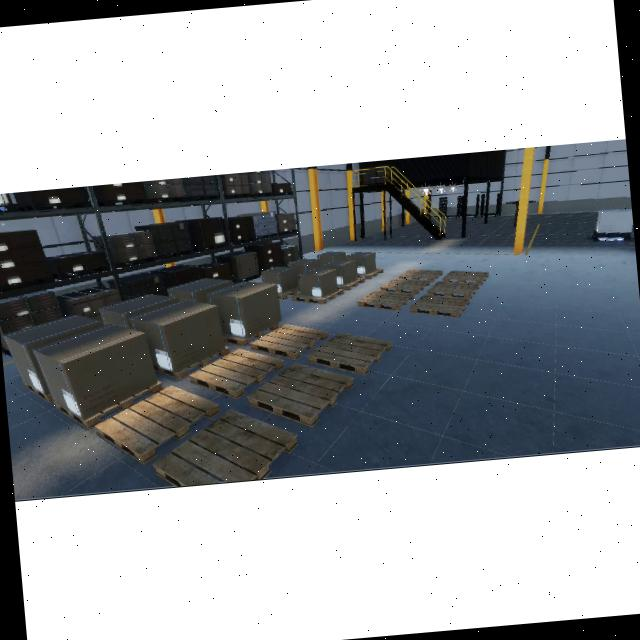wooden_pallet: (54, 379, 163, 430), (153, 345, 231, 380), (221, 322, 281, 347), (290, 288, 344, 304), (22, 380, 54, 403), (337, 276, 364, 290), (356, 268, 383, 279)
